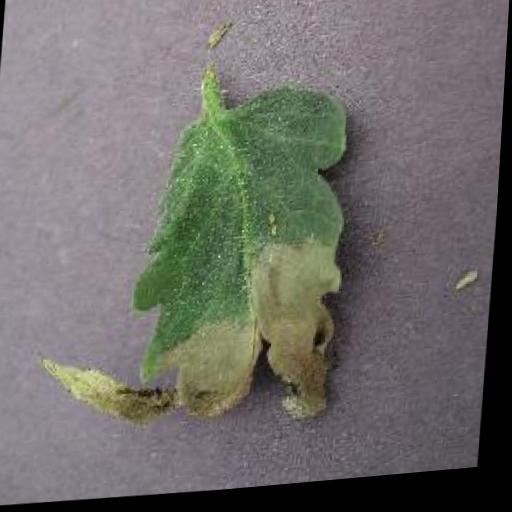Late Blight: (39, 78, 366, 451)
